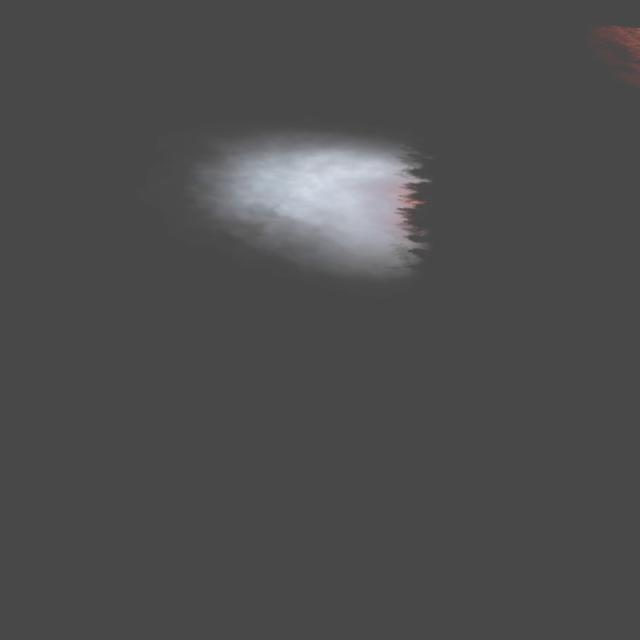smoke: (184, 125, 426, 279)
